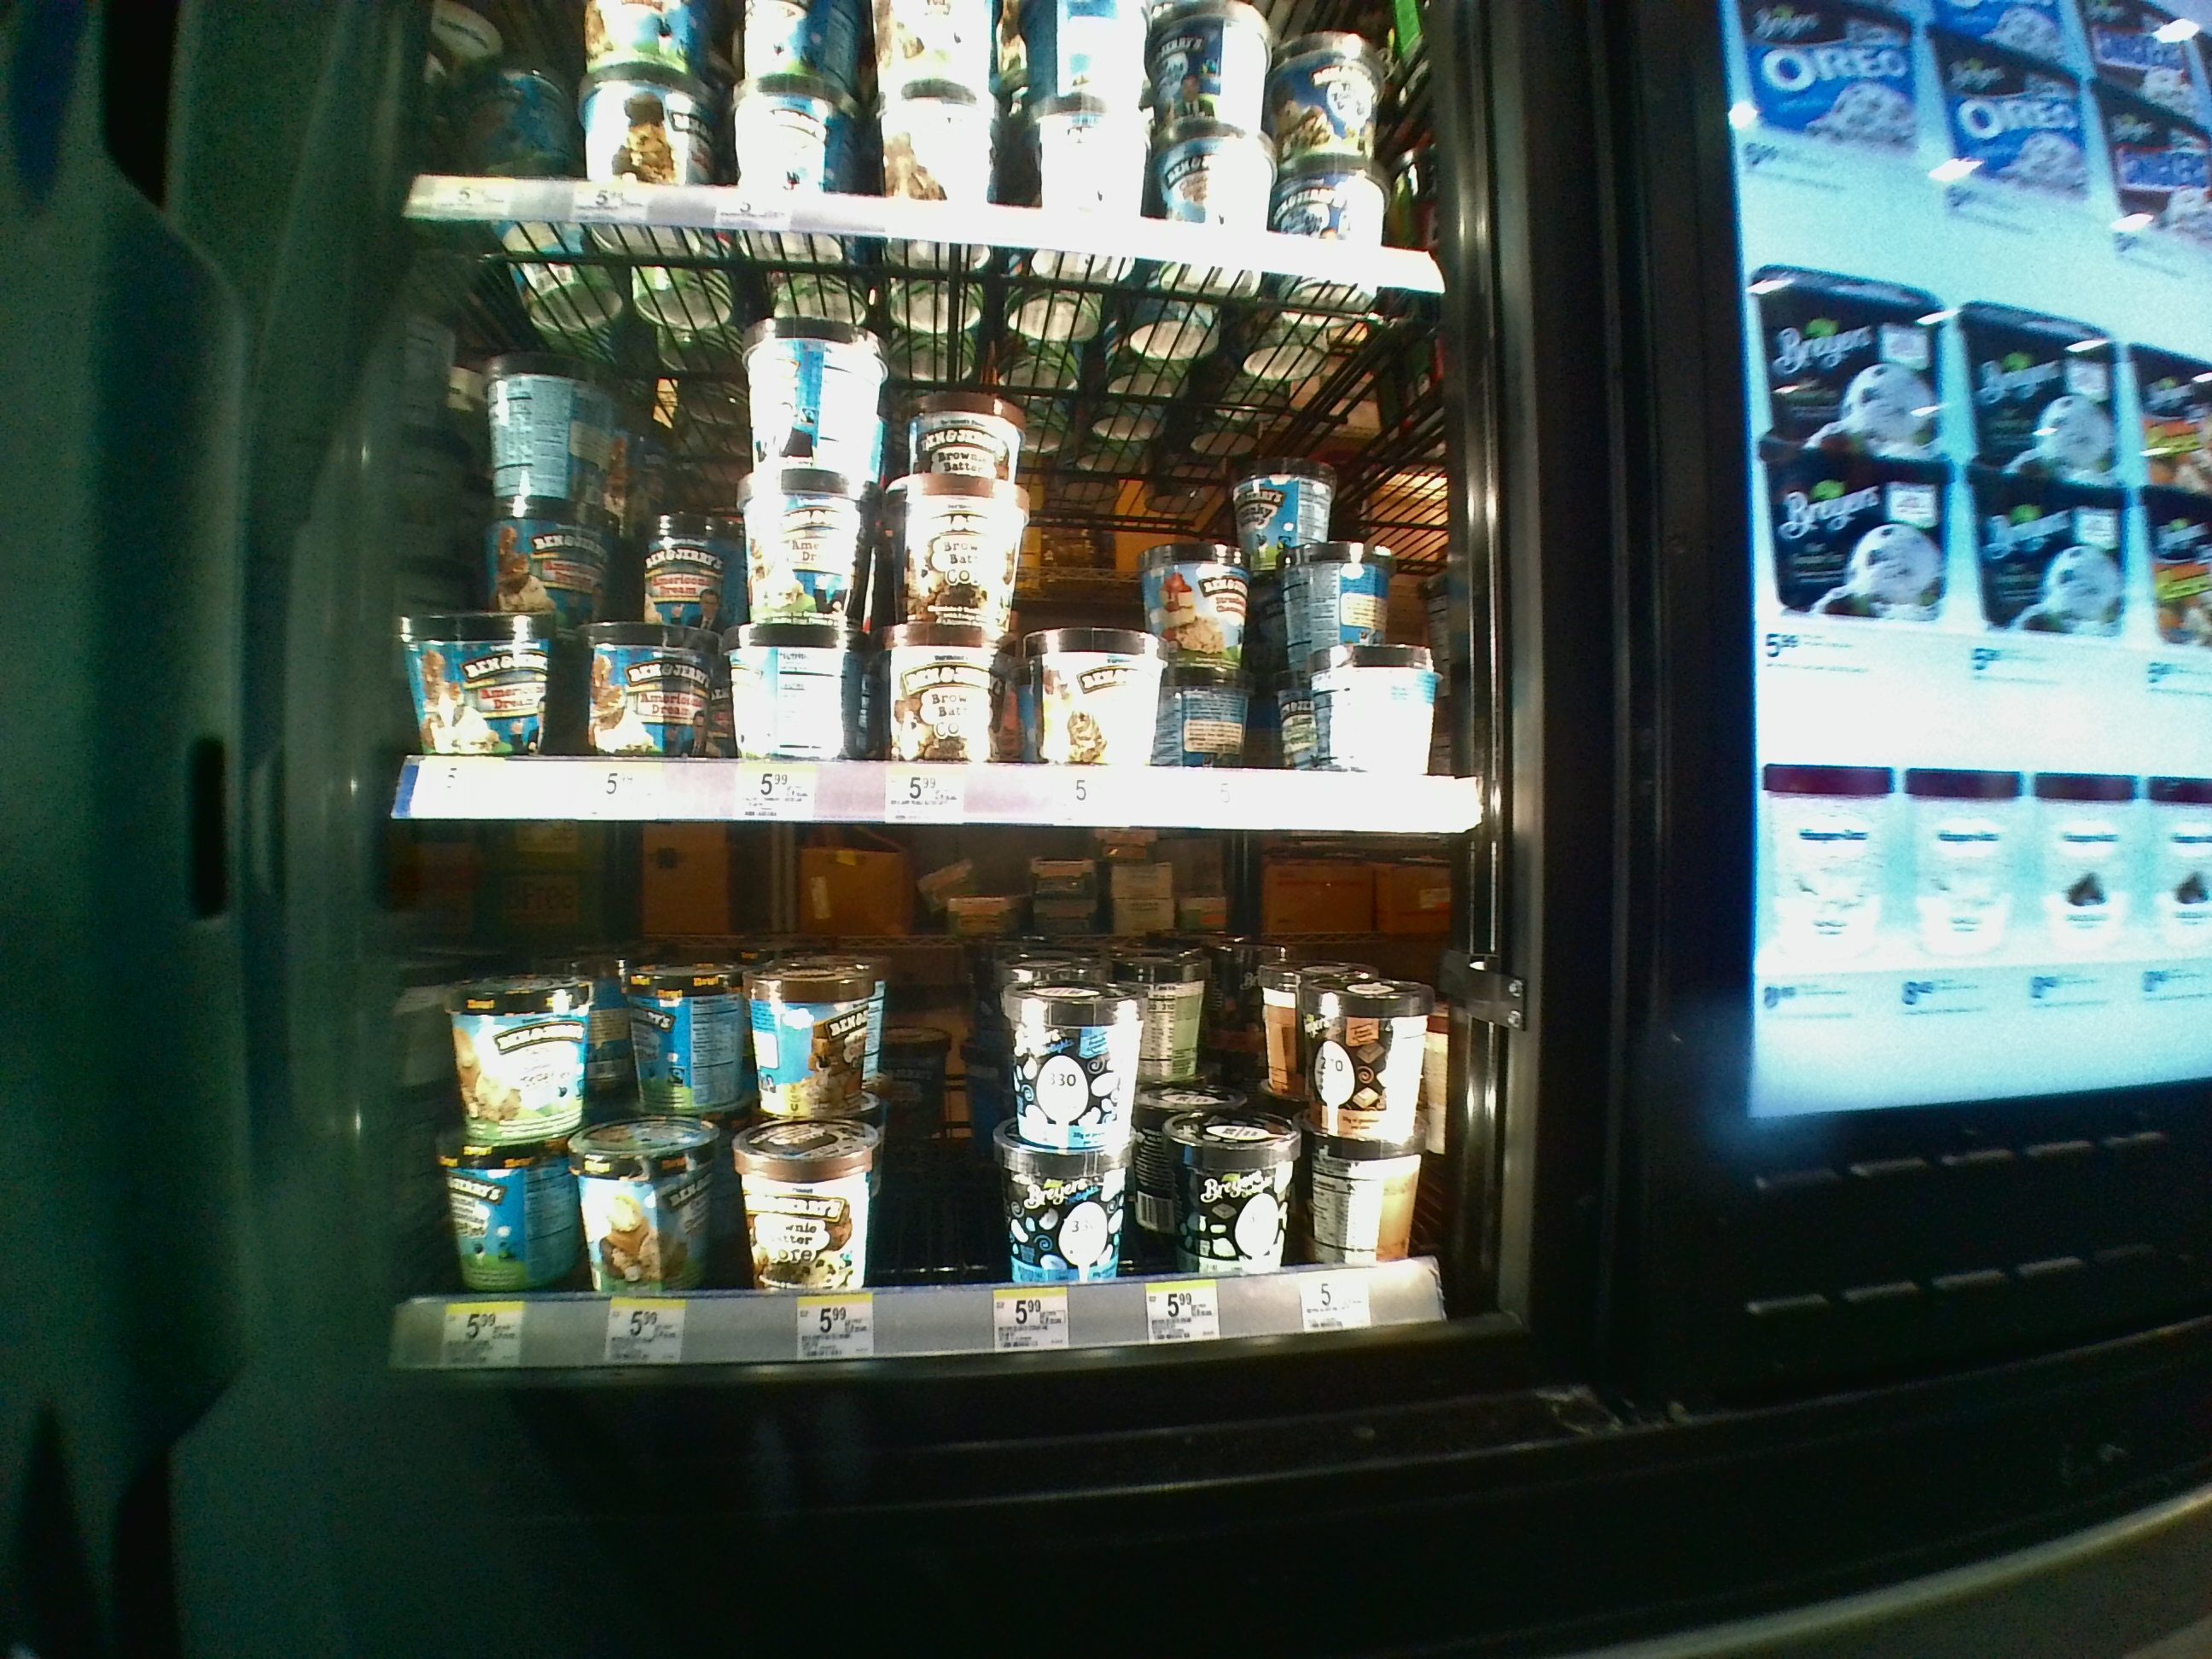shelf: (383, 220, 1493, 828), (392, 842, 1503, 1382)
